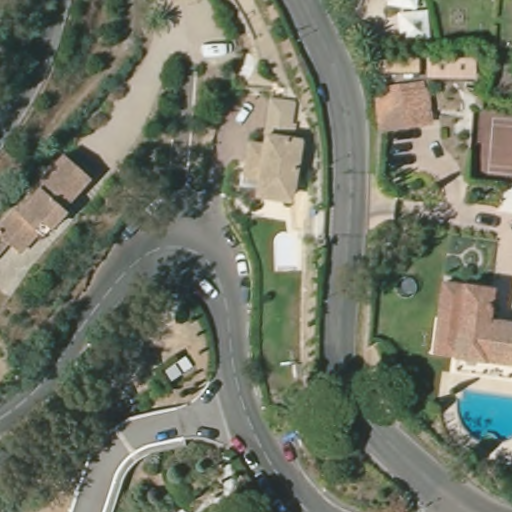pool: (457, 385, 512, 446)
